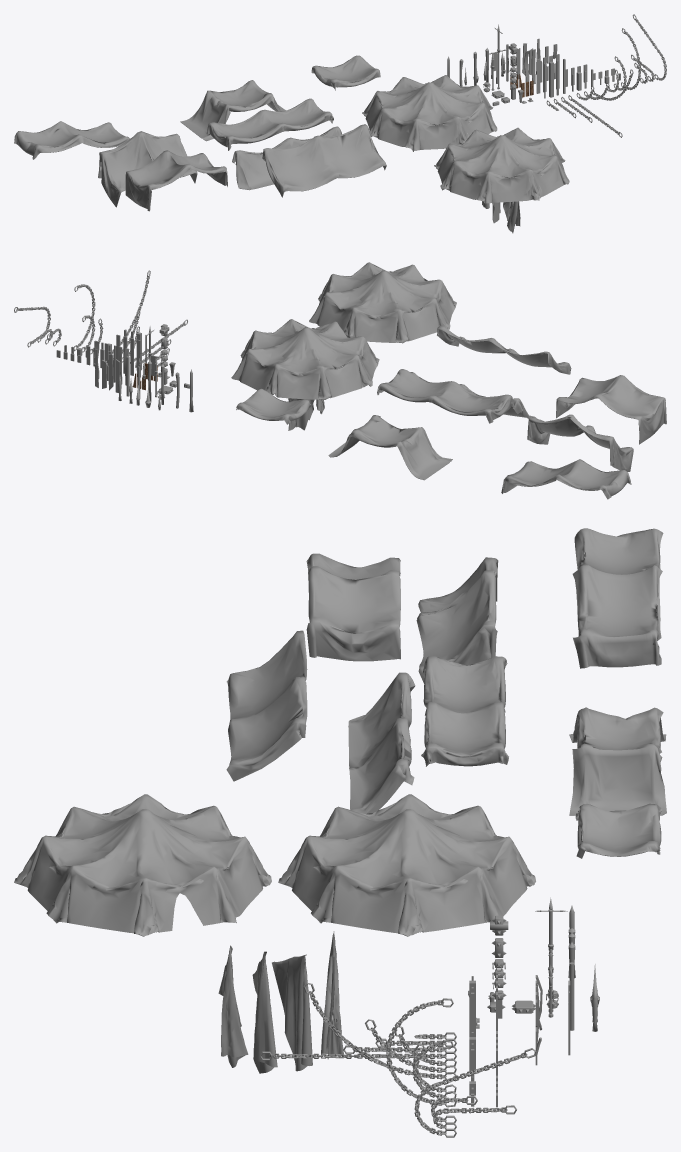
The model's file is BuildingPieces.FBX.
The picture shows the model from 3 angles, top to bottom: view 1: azimuth 30°, elevation 25°; view 2: azimuth 150°, elevation 25°; view 3: azimuth 270°, elevation 25°; orthographic projection. The views are drawn at different scales.
Parts seen in each view (by area): view 1: RoofTent009, RoofTent02, RoofTent04, RoofTent05, RoofTent08, RoofTent06, RoofTent00, RoofTent01, RoofTent07, RoofTent03; view 2: RoofTent02, RoofTent009, RoofTent06, RoofTent08, RoofTent00, RoofTent01, RoofTent05, RoofTent04, RoofTent03, RoofTent07; view 3: RoofTent02, RoofTent009, RoofTent01, RoofTent06, RoofTent00, RoofTent08, RoofTent04, RoofTent07, RoofTent05, RoofTent03, FabricPiece002, FabricPiece001 (+5 smaller).
Part boxes in pixels (x1,y1,x2,y2): RoofTent009: [434, 127, 569, 204]; RoofTent02: [362, 75, 497, 151]; RoofTent04: [262, 124, 386, 197]; RoofTent05: [98, 131, 197, 207]; RoofTent08: [206, 98, 333, 150]; RoofTent06: [125, 150, 227, 211]; RoofTent00: [180, 80, 285, 141]; RoofTent01: [14, 121, 130, 159]; RoofTent07: [232, 126, 341, 190]; RoofTent03: [311, 55, 380, 90]; RoofTent02: [231, 319, 379, 399]; RoofTent009: [309, 262, 456, 343]; RoofTent06: [556, 375, 666, 444]; RoofTent08: [377, 369, 514, 423]; RoofTent00: [328, 415, 452, 480]; RoofTent01: [501, 459, 631, 499]; RoofTent05: [527, 414, 633, 471]; RoofTent04: [437, 325, 571, 374]; RoofTent03: [236, 388, 310, 424]; RoofTent07: [410, 372, 535, 418]; RoofTent02: [278, 794, 535, 936]; RoofTent009: [14, 794, 271, 936]; RoofTent01: [572, 528, 663, 668]; RoofTent06: [306, 553, 400, 661]; RoofTent00: [569, 707, 666, 815]; RoofTent08: [421, 656, 508, 766]; RoofTent04: [226, 630, 307, 781]; RoofTent07: [348, 672, 415, 813]; RoofTent05: [416, 557, 498, 683]; RoofTent03: [575, 803, 661, 858]; FabricPiece002: [272, 954, 312, 1071]; FabricPiece001: [252, 951, 277, 1073].
Bounding box in the file's own units: 2753 × 584 × 1444.
2 materials, 1 textured.
